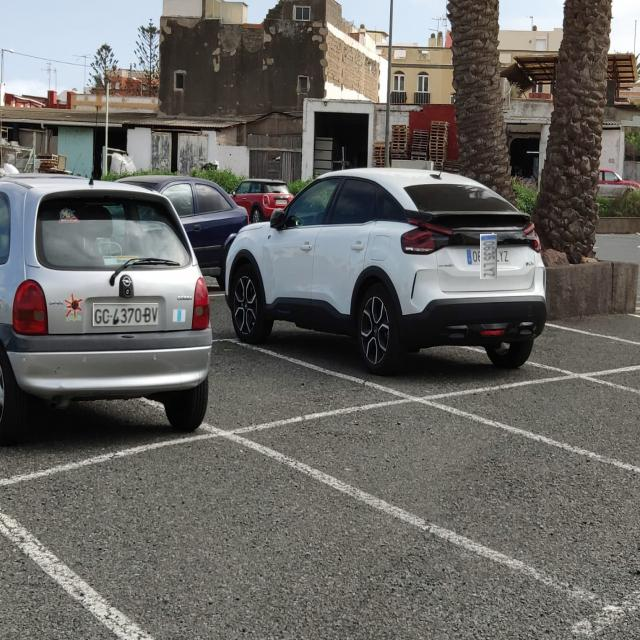License-Plate: (93, 303, 158, 326), (473, 241, 504, 272)
